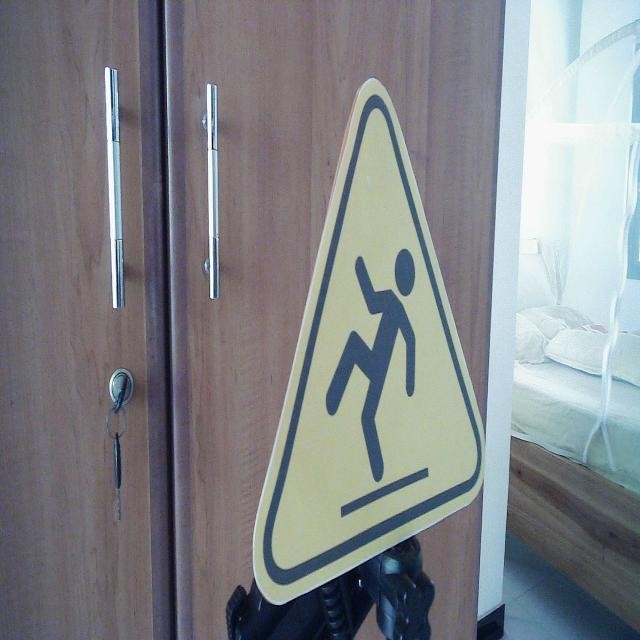slippery_sign: (251, 76, 487, 610)
